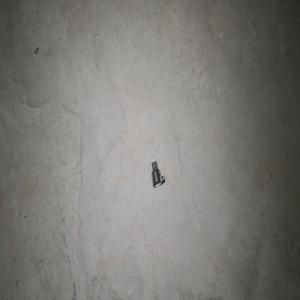MetalPart: (151, 160, 165, 187)
